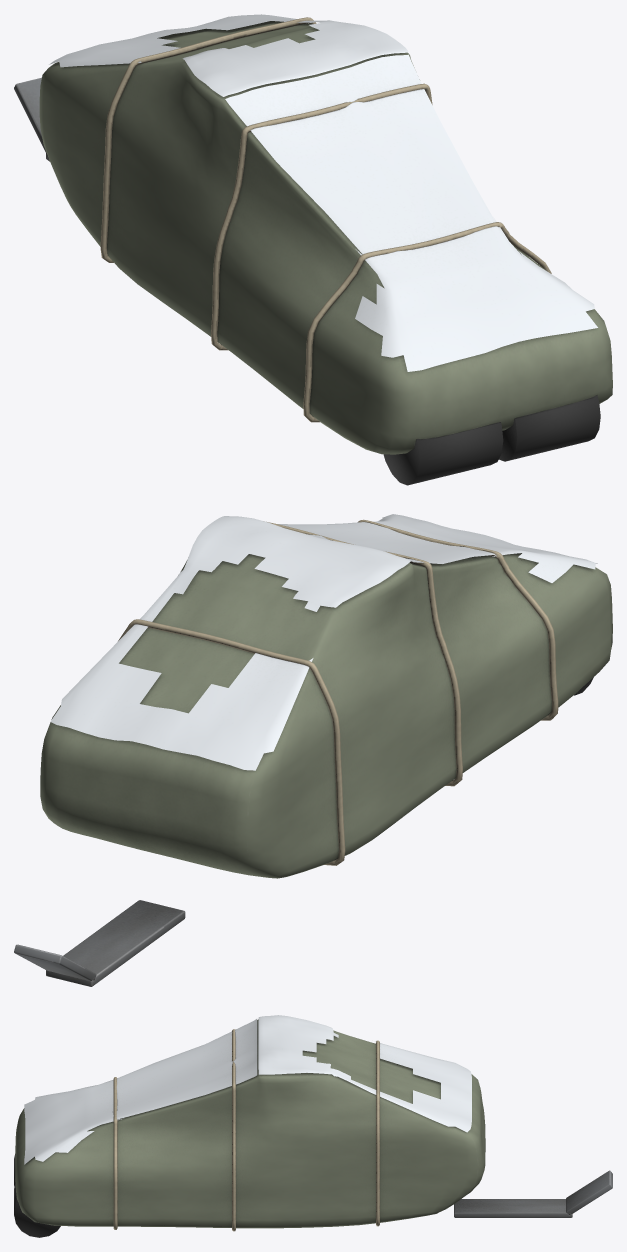
The model's file is buran_tarp.glb.
3 views of the same model, one above another, from view 1: azimuth 30°, elevation 25°; view 2: azimuth 150°, elevation 25°; view 3: azimuth 270°, elevation 25° (orthographic). The views are drawn at different scales.
Visible parts, largest first — view 1: buran_tarp; view 2: buran_tarp; view 3: buran_tarp.
Boxes of the visible parts, <box> form: buran_tarp: <box>14,14,612,485</box>; buran_tarp: <box>14,514,612,986</box>; buran_tarp: <box>14,1015,612,1237</box>.
Bounding box in the file's own units: 1.09 × 1.1 × 3.54.
Materials: 1 (1 with a texture image).
